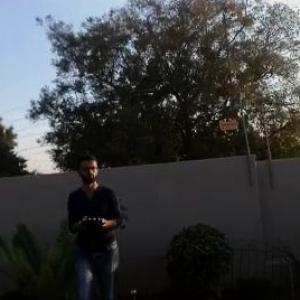follow: (62, 151, 131, 299)
